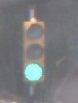Green: (22, 16, 51, 87)
